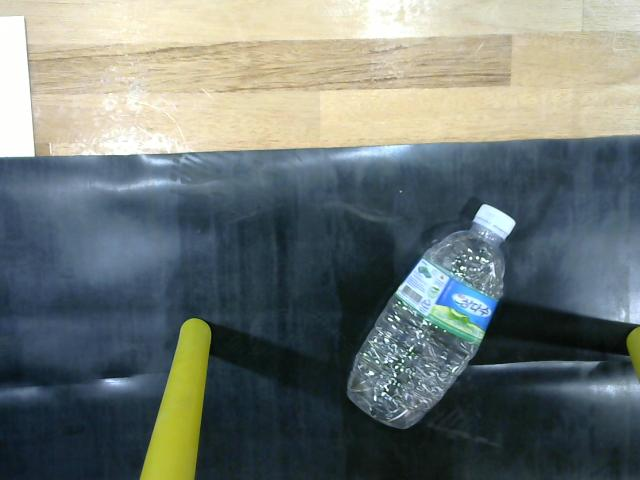bottle: (339, 192, 533, 441)
